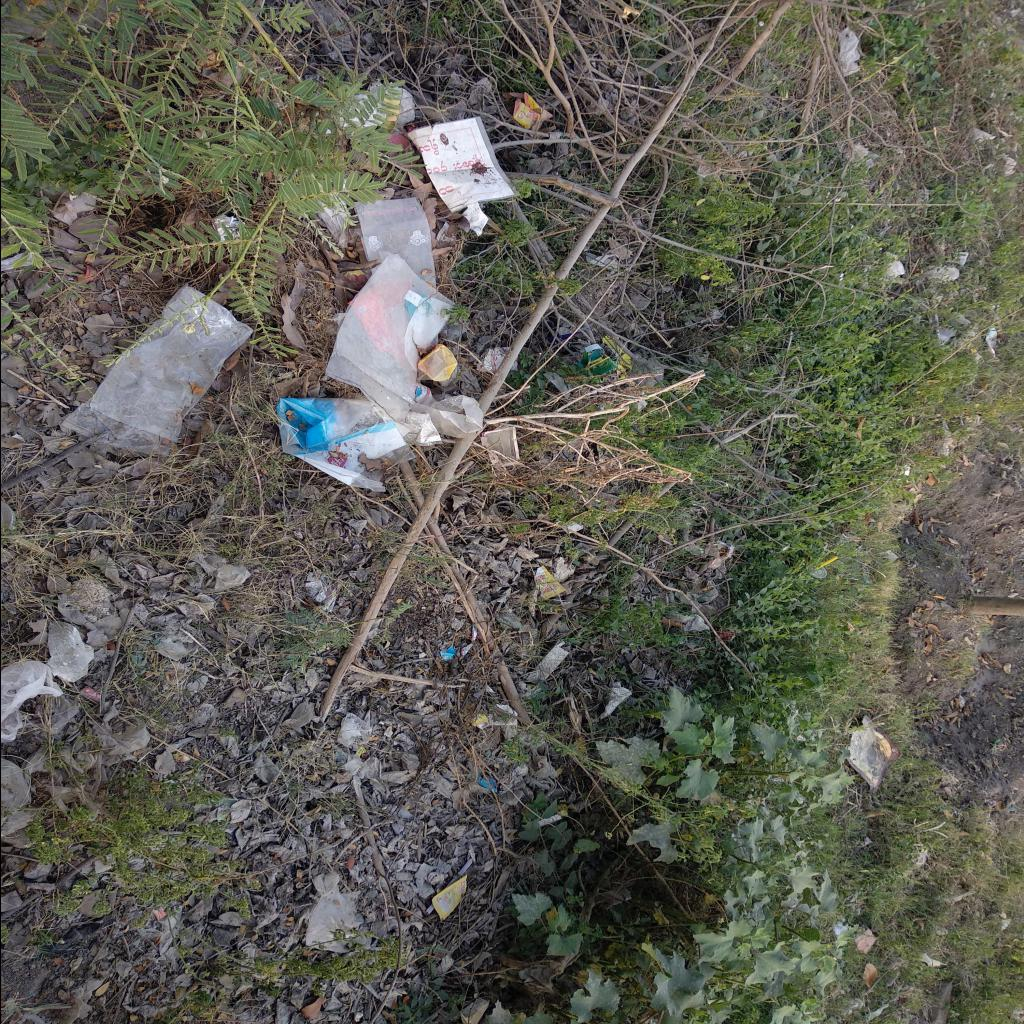Normal paper: (405, 116, 519, 212)
Other plastic: (430, 878, 466, 922), (514, 92, 554, 130), (304, 572, 341, 612), (533, 565, 565, 601), (460, 624, 478, 656), (469, 712, 487, 726), (440, 645, 454, 661)
Plastic film: (60, 284, 252, 457), (324, 250, 454, 424), (276, 398, 414, 492), (354, 198, 436, 289), (2, 659, 62, 743), (344, 82, 412, 128), (408, 394, 482, 436), (306, 890, 356, 952), (398, 412, 442, 446), (313, 200, 345, 244), (419, 344, 455, 382), (838, 27, 860, 77), (416, 380, 434, 407)
Plastic lid: (807, 566, 826, 578)
Plastic straw: (424, 859, 472, 916), (814, 556, 838, 570)
Styrofoam piece: (65, 574, 111, 622), (526, 646, 568, 684), (600, 682, 630, 720), (476, 704, 516, 730), (474, 347, 508, 373)
Unlabeled litter: (844, 716, 899, 792), (461, 202, 489, 238), (211, 215, 239, 240), (491, 355, 519, 374), (580, 344, 604, 363), (80, 686, 100, 703), (474, 779, 496, 793)
